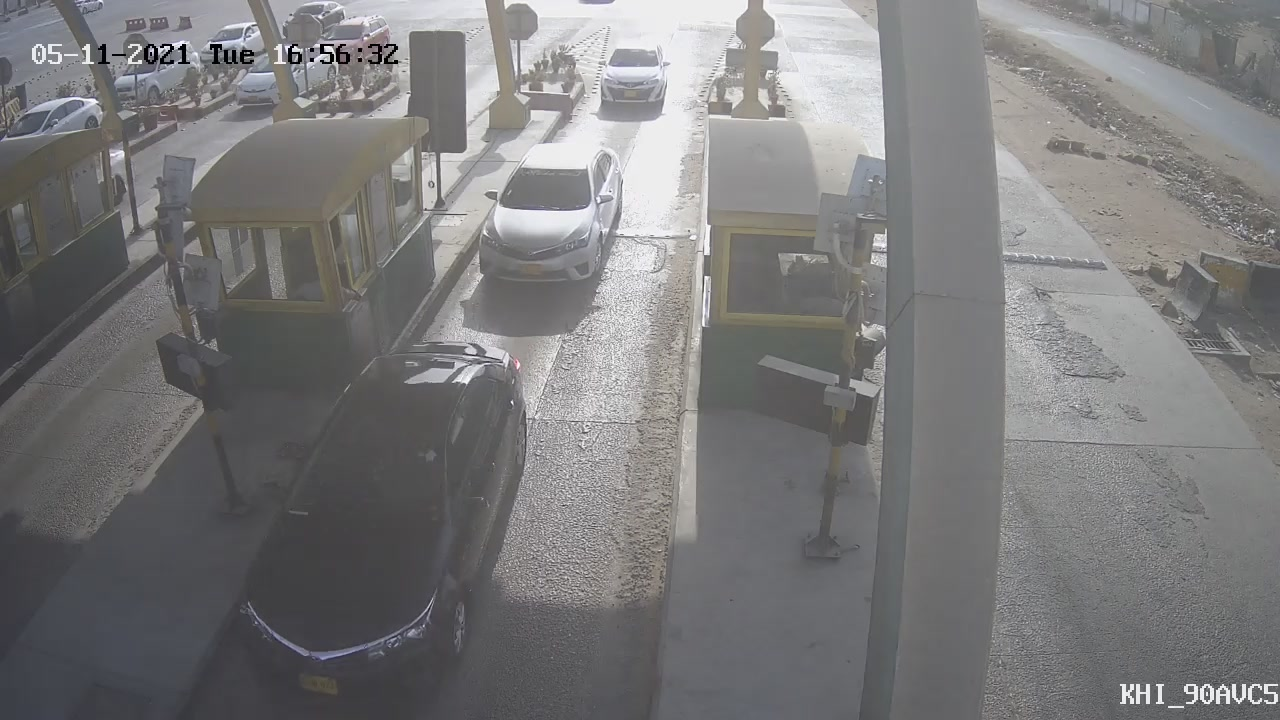F1: (457, 129, 640, 307)
